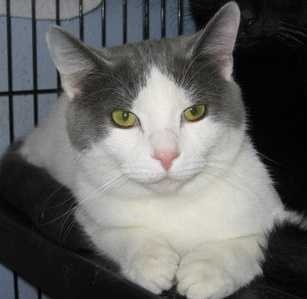Cat: (21, 8, 278, 298)
